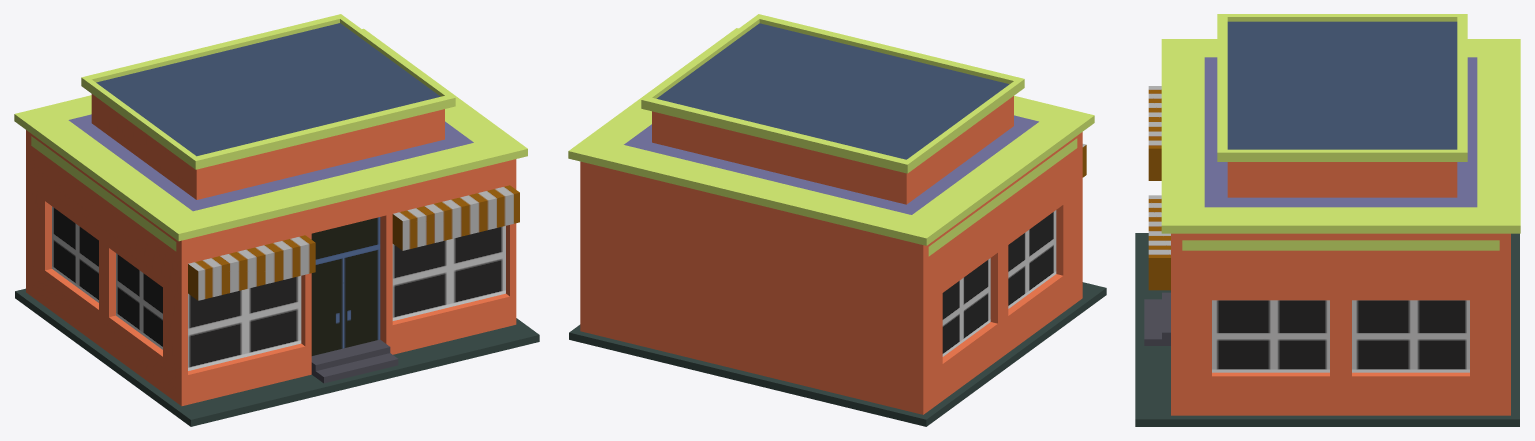
File: building7c.FBX
The picture shows the model from 3 angles, left to right: view 1: azimuth 30°, elevation 25°; view 2: azimuth 150°, elevation 25°; view 3: azimuth 270°, elevation 25°; orthographic projection. The views are drawn at different scales.
Parts seen in each view (by area): view 1: building7c; view 2: building7c; view 3: building7c.
Part boxes in pixels (<box>): building7c: <box>14,14,539,426</box>; building7c: <box>568,14,1106,426</box>; building7c: <box>1135,14,1520,426</box>.
Size of the model in its own units: 17.76 by 11.07 by 15.49.
